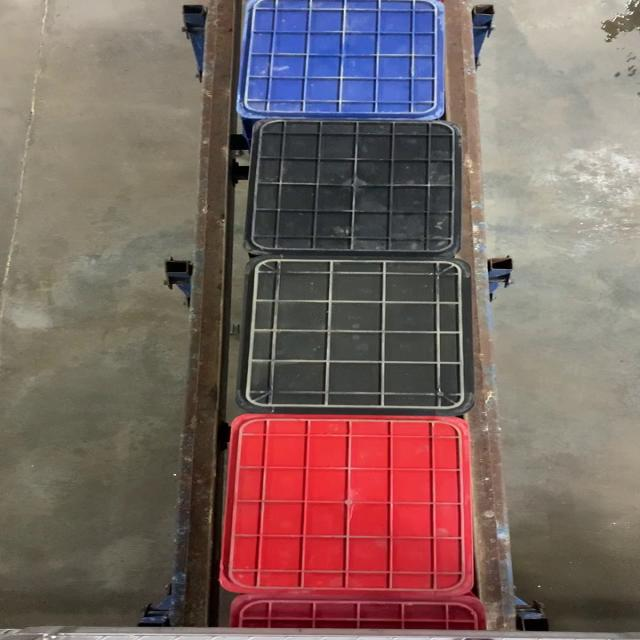Box: (215, 416, 474, 597), (237, 258, 474, 416), (239, 120, 463, 257), (237, 2, 447, 120)
